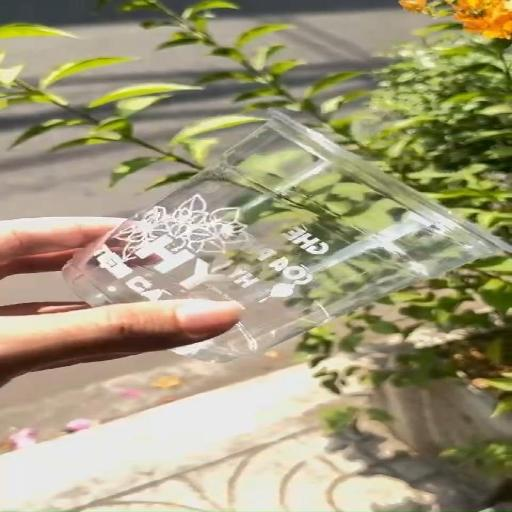ly_giay: (64, 113, 511, 362)
